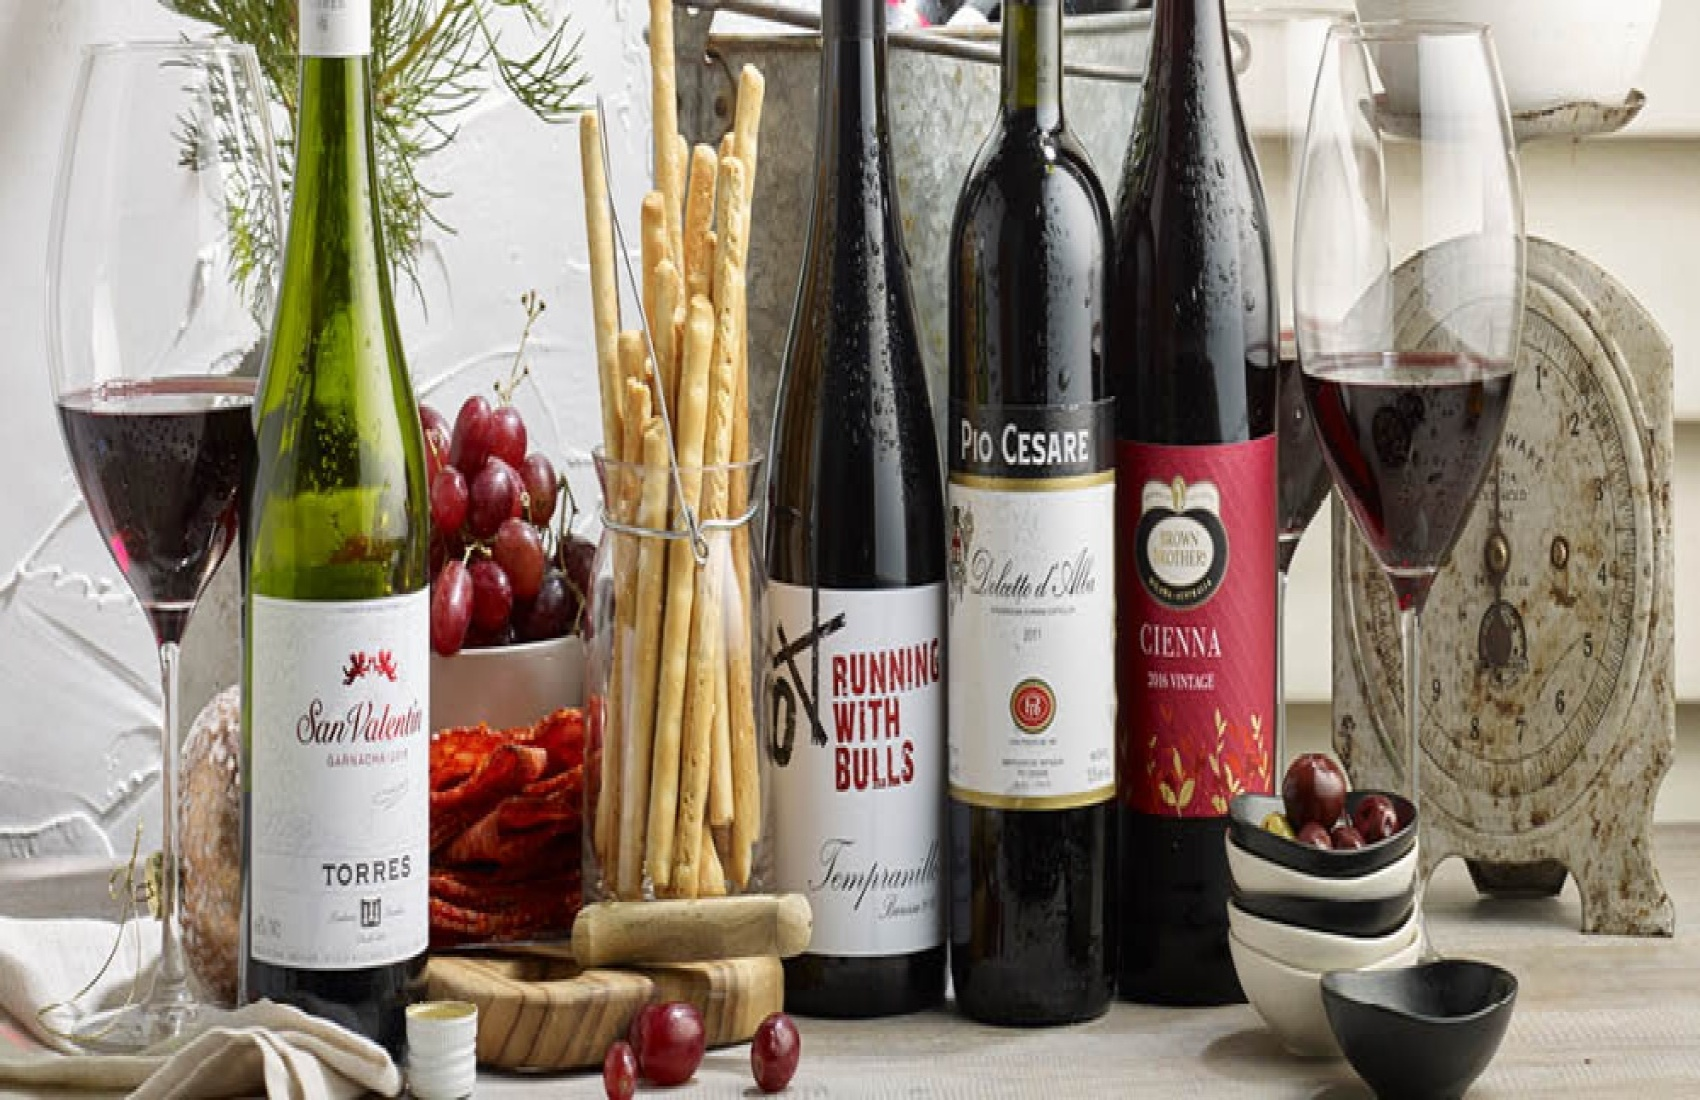wine: (247, 21, 437, 1044), (943, 15, 1120, 1015), (762, 12, 939, 1012), (1125, 1, 1302, 998)
